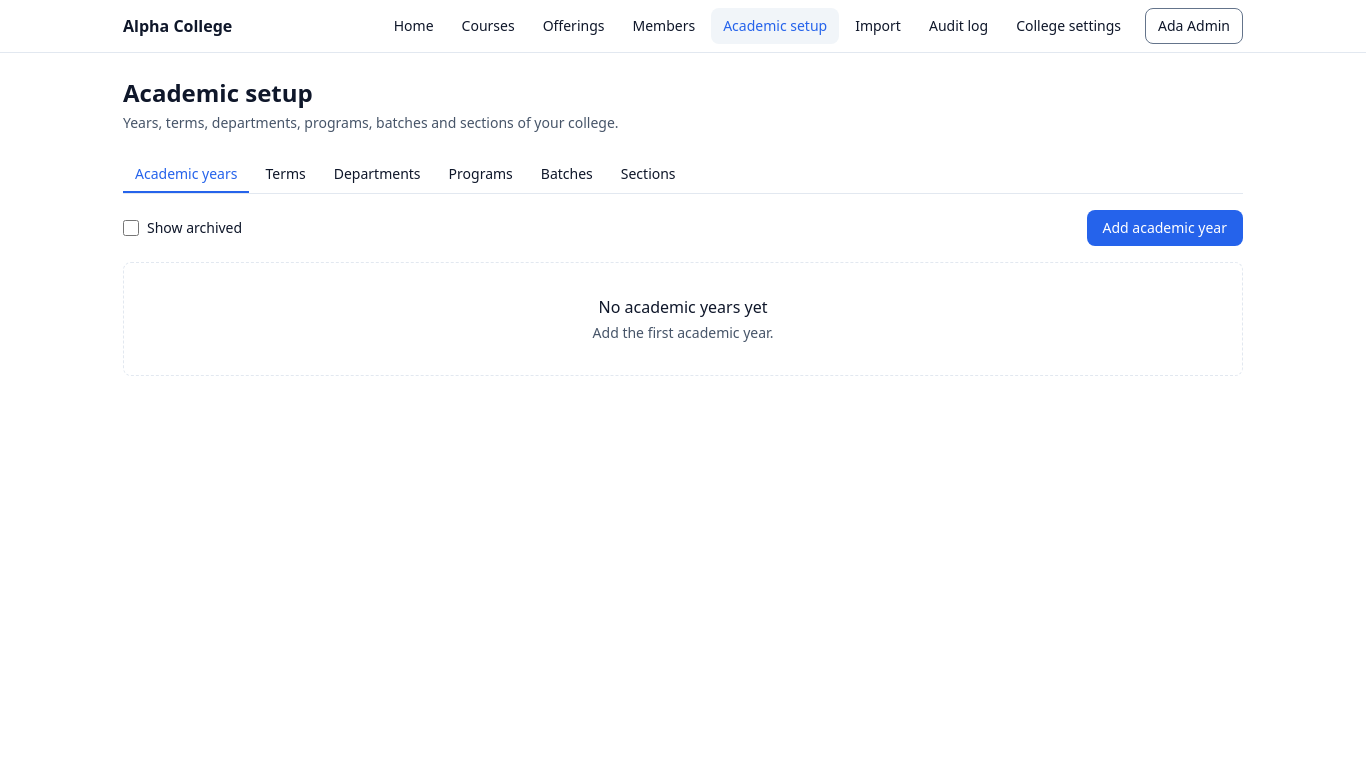
Test: academic setup › archiving asks first, names the target, and shows the server reason when it is refused (409)
This screenshot has width=1366, height=768.
Click the tab "Departments": [377, 175] box [322,157,433,193]
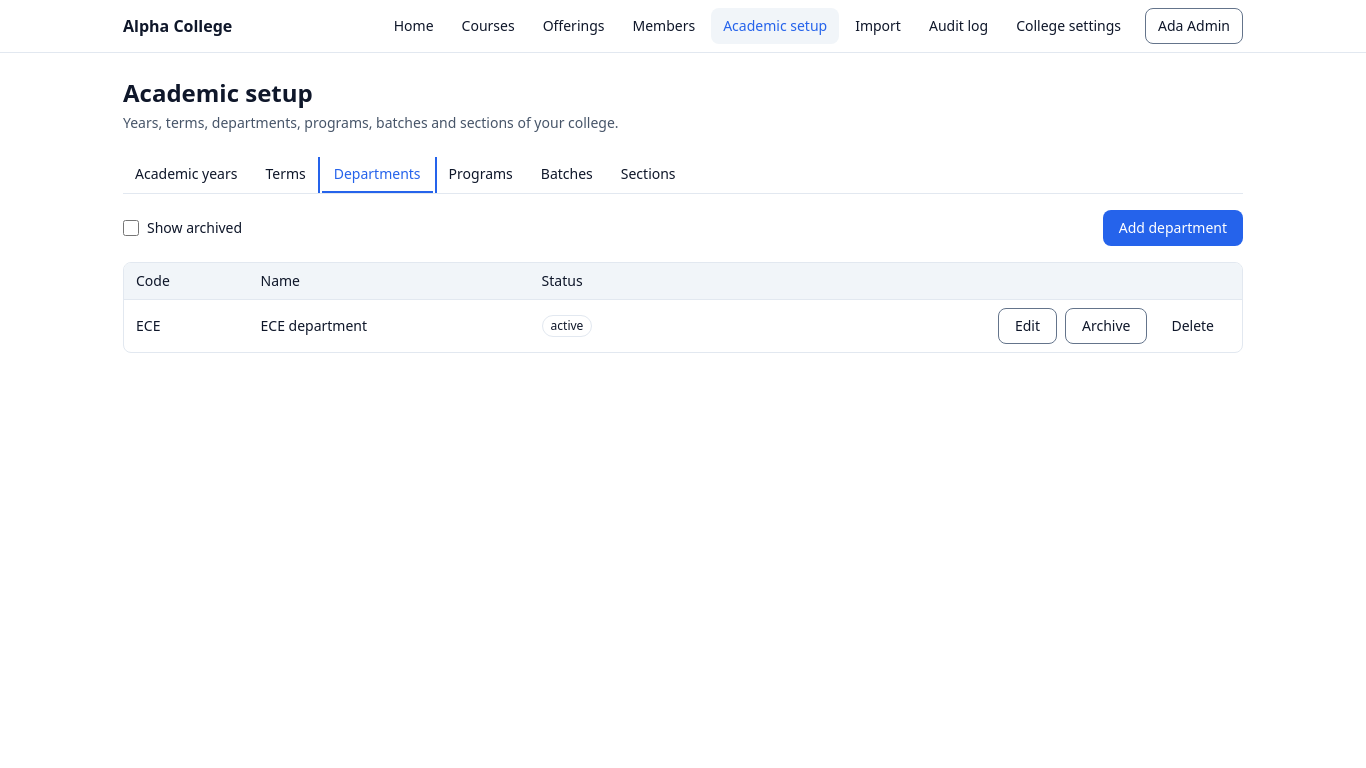
Click the button "Archive": [1106, 326] box [1065,308,1148,344]
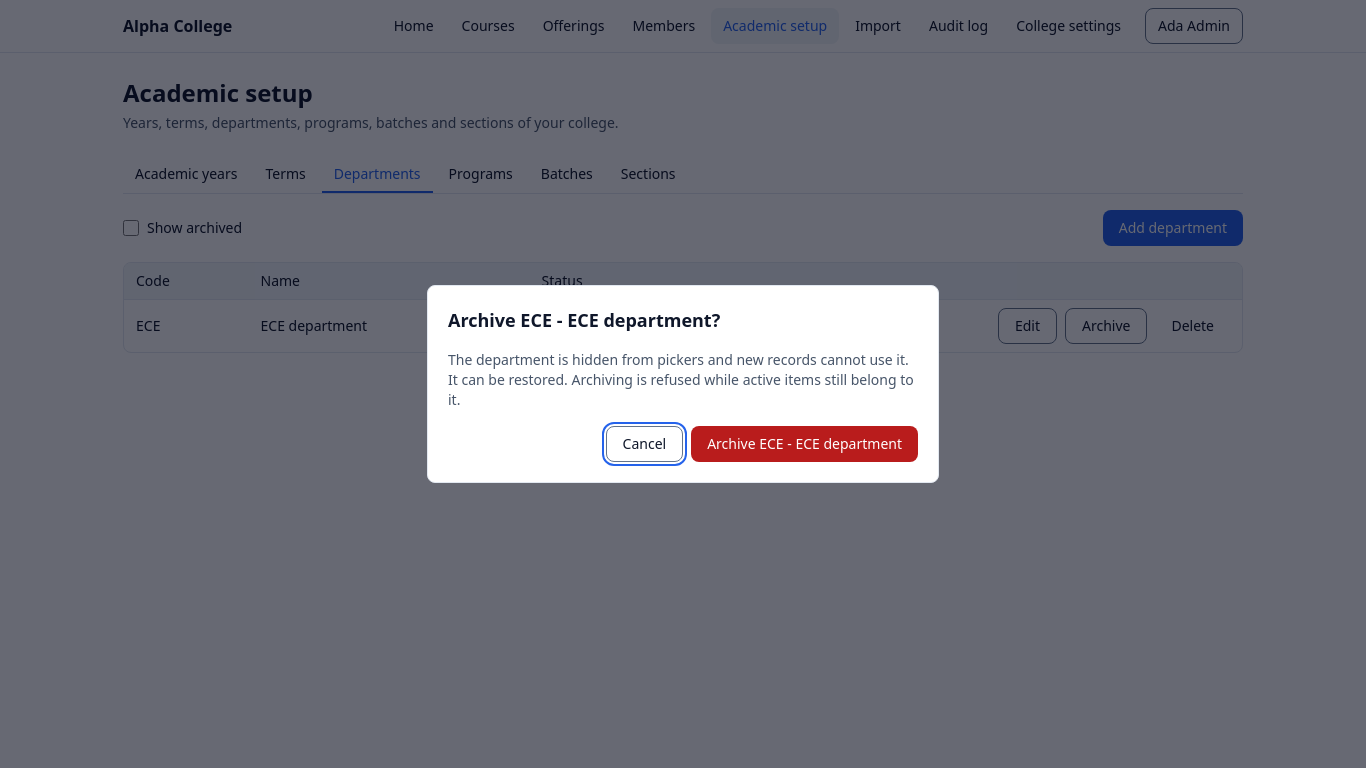
Click the button "Archive ECE - ECE department": [805, 444] box [691,426,918,462]
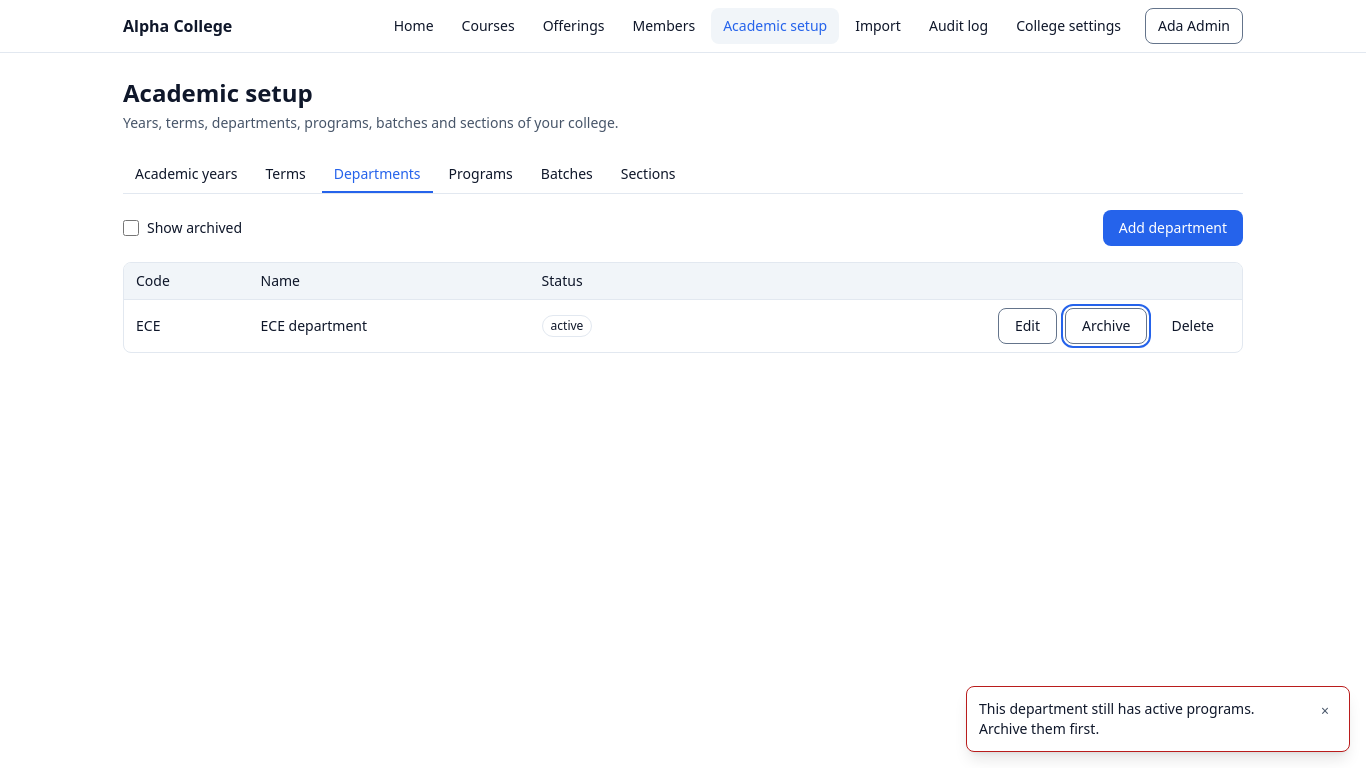
Check: the text "ECE" is shown, box [124,300,248,352]
Check: the text "This department still has active programs. Archive them first." is shown, box [979,699,1301,739]
